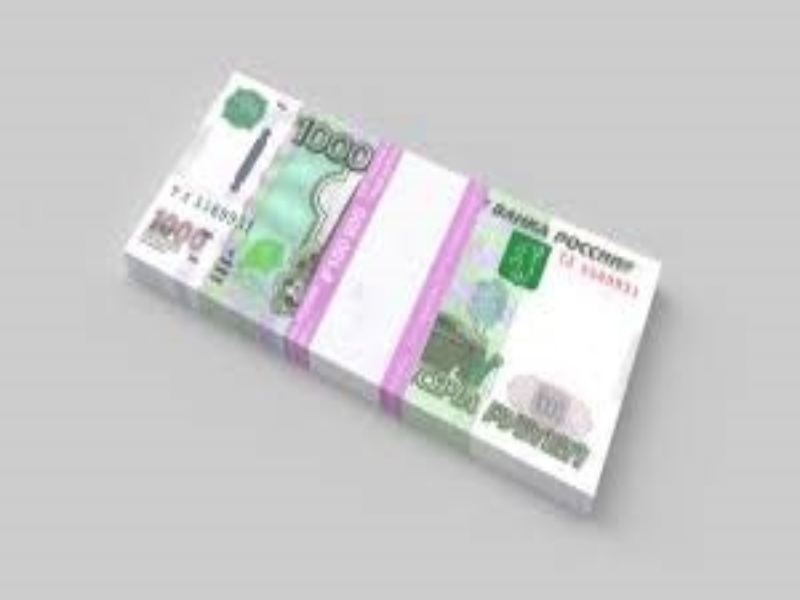cash: (125, 70, 663, 511)
